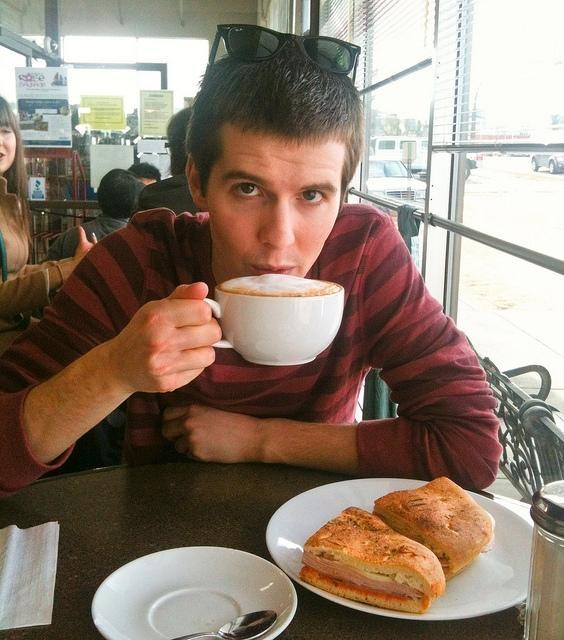car: (366, 154, 426, 210), (531, 152, 564, 175)
